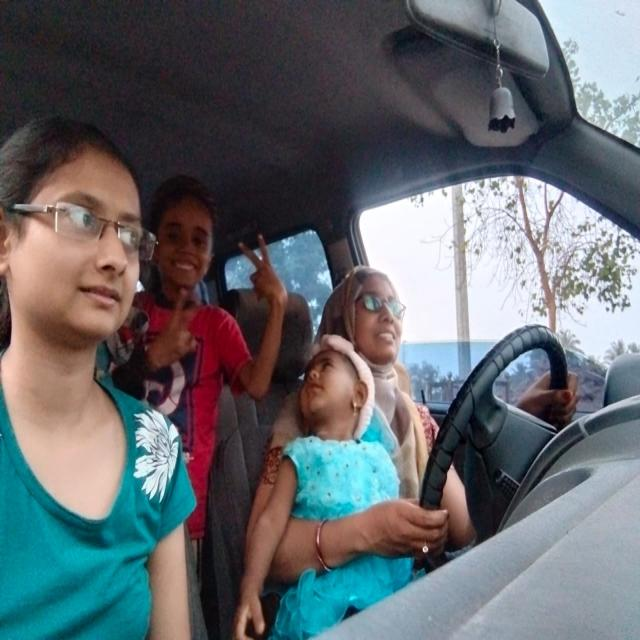child: (142, 167, 230, 312), (296, 329, 370, 433)
person: (0, 102, 159, 399), (323, 252, 434, 368)
